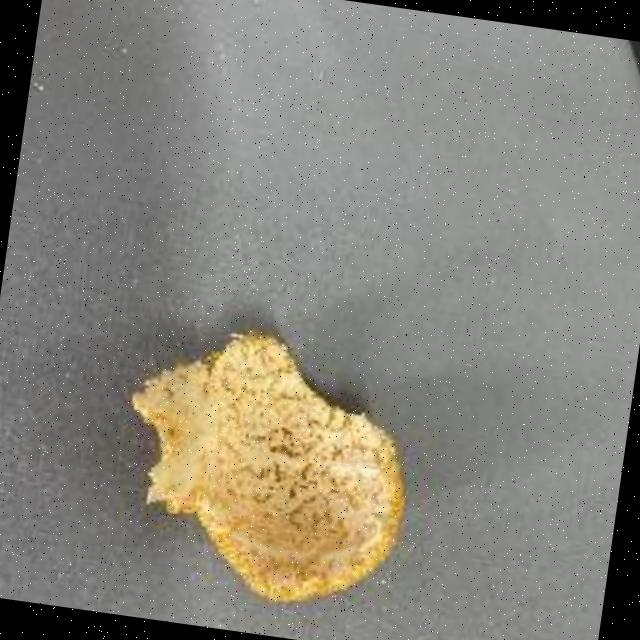orange-peel: (103, 310, 431, 620)
